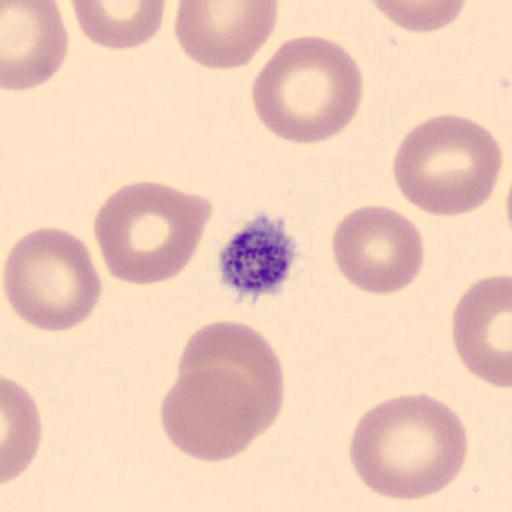Platelet: (216, 211, 302, 302)
RBC: (348, 391, 470, 502), (91, 179, 213, 286), (250, 34, 364, 145), (176, 319, 285, 430), (391, 112, 504, 218), (2, 225, 102, 334), (159, 365, 263, 463), (331, 202, 426, 297), (174, 1, 280, 71), (451, 273, 512, 390), (1, 0, 70, 93), (68, 0, 170, 51), (2, 374, 42, 486), (366, 0, 470, 35), (505, 155, 512, 253)
